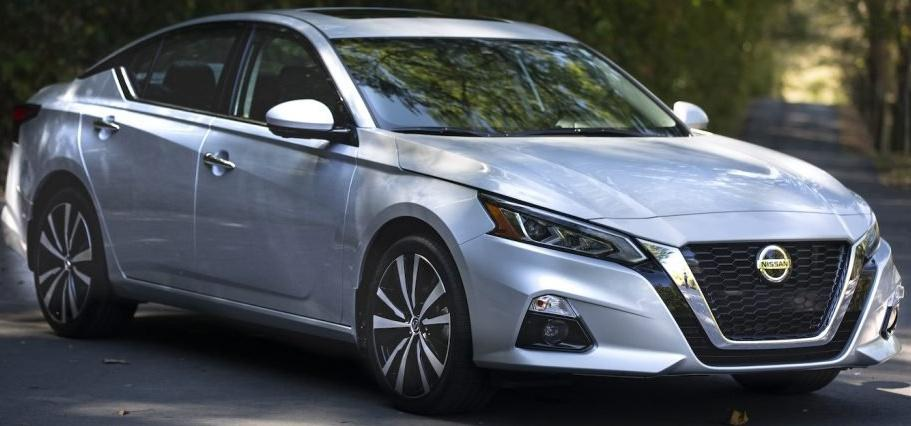Cars: (2, 9, 904, 413)
